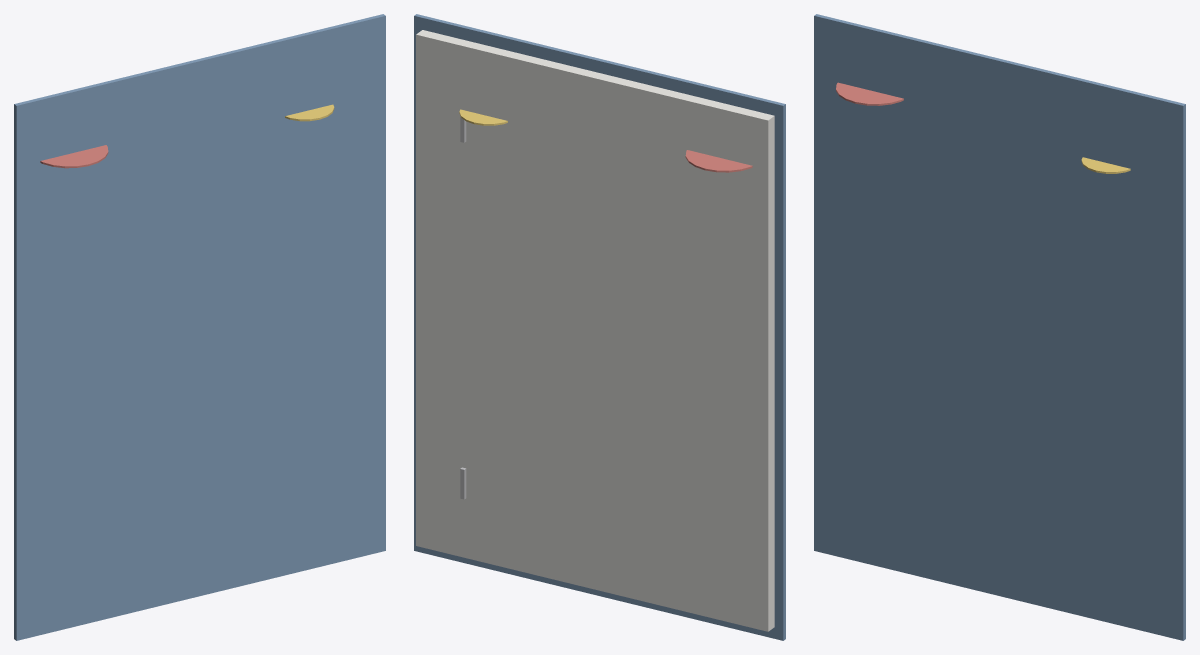
File: item_56_exercise_book.glb
3 renders of one model, left to right at view 1: azimuth 30°, elevation 25°; view 2: azimuth 150°, elevation 25°; view 3: azimuth 330°, elevation 25°, orthographic.
Visible parts, largest first — view 1: I56_Cover, I56_Corner; view 2: I56_Pages, I56_Cover, I56_Corner; view 3: I56_Cover, I56_Corner.
Part boxes in pixels (x1,y1,x2,y2): I56_Cover: (14, 14, 385, 640); I56_Corner: (40, 145, 108, 168); I56_Pages: (416, 30, 774, 631); I56_Cover: (414, 14, 785, 640); I56_Corner: (685, 150, 752, 172); I56_Cover: (814, 14, 1185, 640); I56_Corner: (836, 82, 903, 105).
Bounding box in the file's own units: 0.13 × 0.18 × 0.024.
